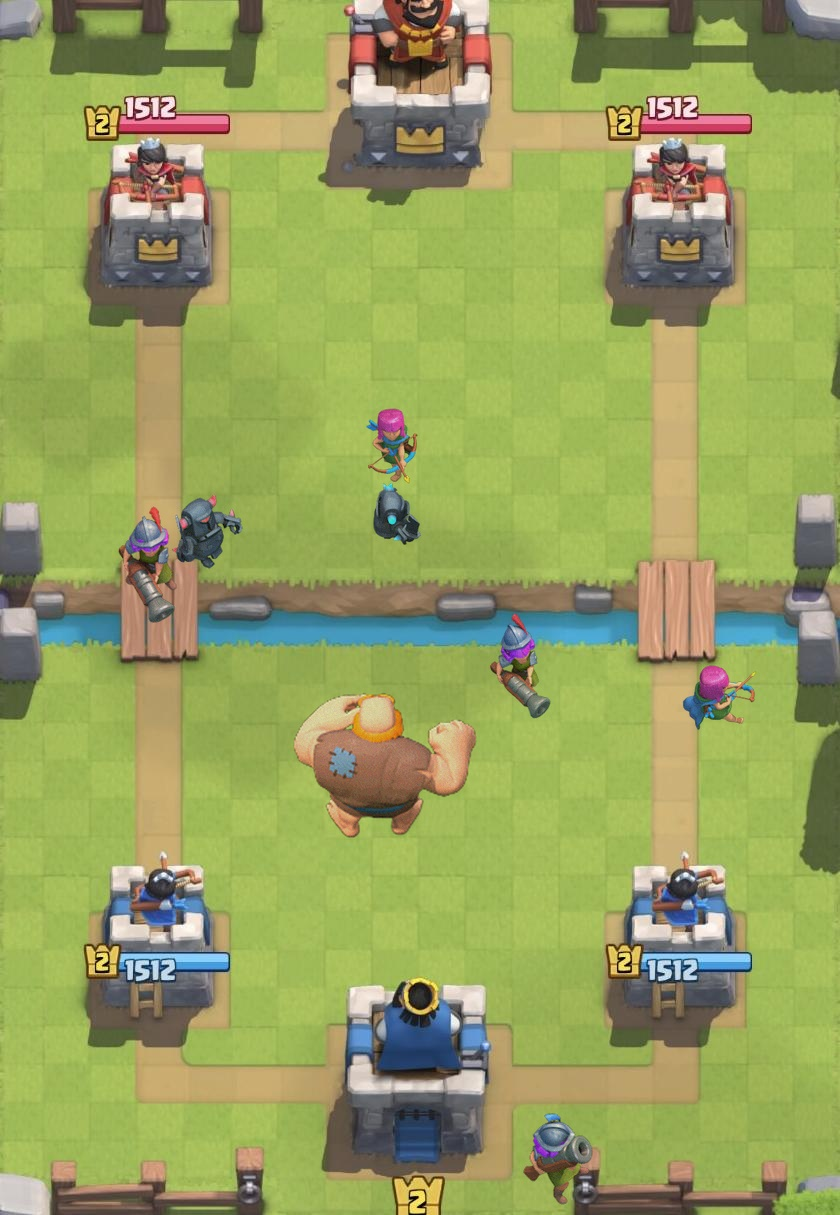archer_ally: (682, 665, 757, 730), (366, 408, 418, 484)
giant_ally: (293, 692, 477, 838)
mekka_ally: (373, 483, 421, 545)
mekka_enemy: (171, 494, 243, 569)
musketeer_ally: (523, 1113, 593, 1205)
musketeer_enemy: (118, 506, 177, 623), (490, 613, 551, 719)
